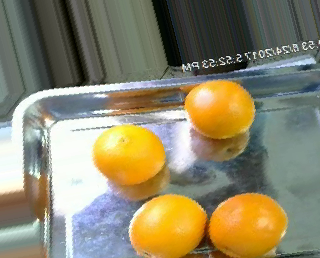Orange: (207, 191, 289, 258), (128, 194, 207, 258), (91, 123, 166, 185), (184, 79, 256, 140)
